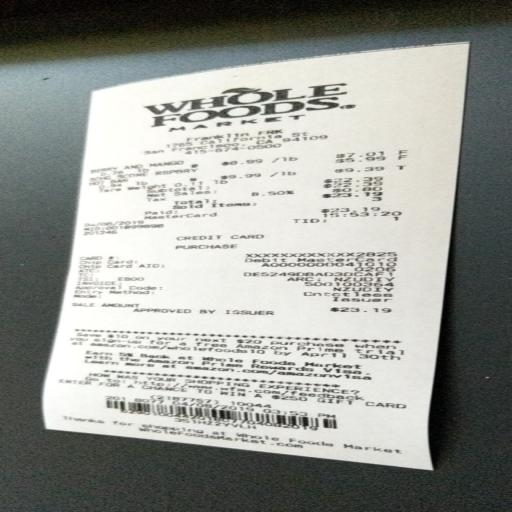paper: (52, 20, 497, 512)
